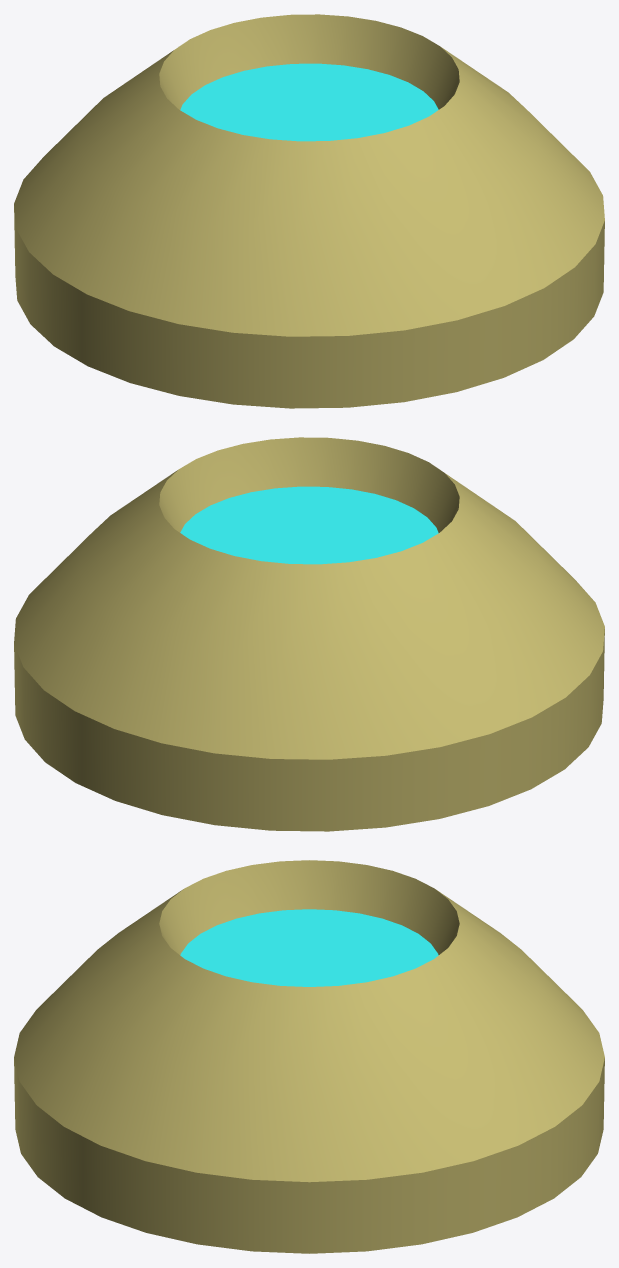
Rendered from Recipient Plant.3.fbx.
The picture shows the model from 3 angles, top to bottom: view 1: azimuth 30°, elevation 25°; view 2: azimuth 150°, elevation 25°; view 3: azimuth 270°, elevation 25°; orthographic projection.
Parts seen in each view (by area): view 1: VPlanta, Círculo; view 2: VPlanta, Círculo; view 3: VPlanta, Círculo.
Boxes of the visible parts, left/top/right/bottom form: VPlanta: left=14, top=14, right=604, bottom=408; Círculo: left=180, top=63, right=438, bottom=141; VPlanta: left=14, top=437, right=604, bottom=831; Círculo: left=180, top=486, right=438, bottom=564; VPlanta: left=14, top=860, right=604, bottom=1253; Círculo: left=180, top=909, right=438, bottom=986.
Bounding box in the file's own units: 102 × 39.33 × 102.
